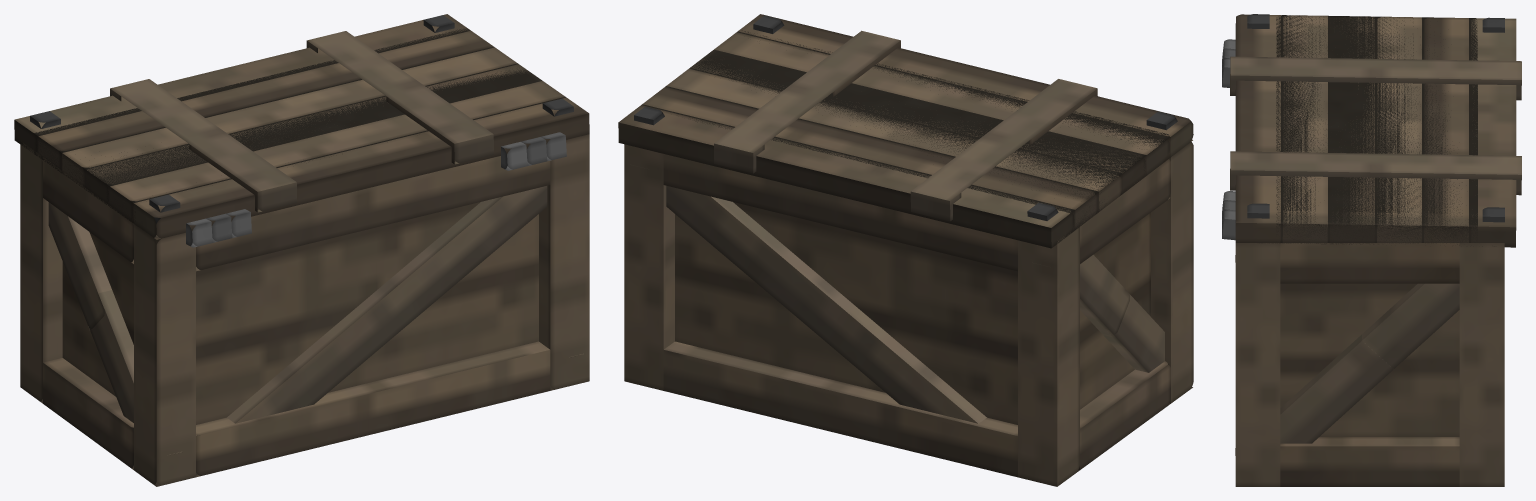
The model's file is wood_crate.obj.
3 views of the same model, side by side, from view 1: azimuth 30°, elevation 25°; view 2: azimuth 150°, elevation 25°; view 3: azimuth 270°, elevation 25° (orthographic).
Parts seen in each view (by area): view 1: ob, nB, om, nG, nK, nA, oa, nI, nX, nY, nH, nV (+11 smaller); view 2: oc, nz, oa, oh, nZ, nH, ny, nJ, nY, nG, nX, nV (+9 smaller); view 3: oa, od, nI, nJ, nD, nY, nK, nV, nX, of, og, nC (+9 smaller).
Boxes of the visible parts, x1,y1,x2,y2 form: ob: (154,202,538,435); nB: (196,341,550,477); om: (227,186,547,423); nG: (134,224,195,486); nK: (133,97,589,239); nA: (196,156,550,271); oa: (34,28,566,223); nI: (539,134,589,390); nX: (62,47,517,187); nY: (38,31,493,169); nH: (20,141,62,403); nV: (110,81,565,220); oc: (675,202,1017,424); nz: (663,341,1017,477); oa: (641,30,1170,233); oh: (666,185,986,423); nZ: (618,105,1074,248); nH: (1018,227,1079,486); ny: (663,154,1017,271); nJ: (624,144,674,390); nY: (642,87,1097,229); nG: (1151,142,1193,403); nX: (666,68,1121,211); nV: (714,32,1169,175); oa: (1276,15,1477,243); od: (1280,283,1459,436); nI: (1235,243,1280,486); nJ: (1459,243,1504,486); nD: (1280,437,1459,486); nY: (1424,17,1468,245); nK: (1235,14,1280,243); nV: (1282,15,1327,244); nX: (1377,16,1421,244); of: (1230,151,1521,195); og: (1230,56,1521,100); nC: (1280,243,1459,283).
Bounding box in the file's own units: 1.38 × 0.8293 × 0.8359.
Materials: 1 (1 with a texture image).
